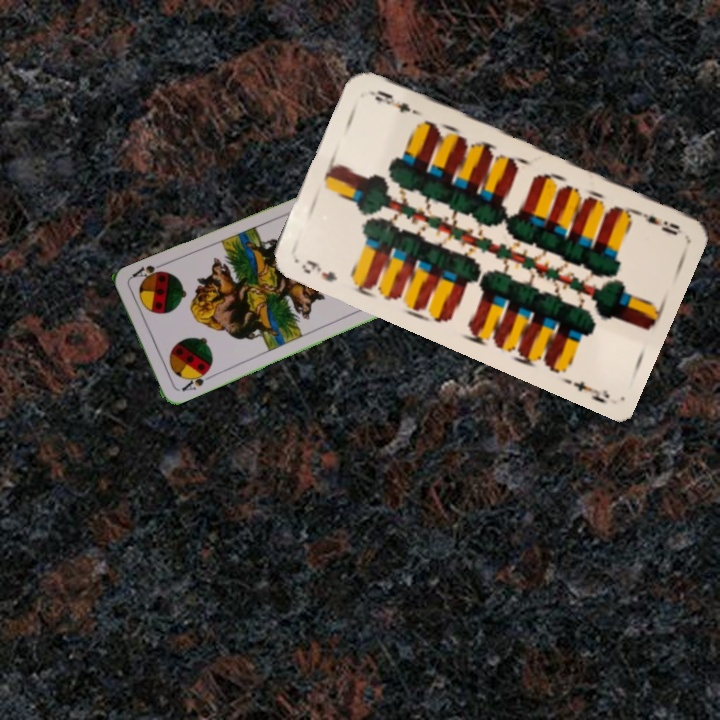E9: (630, 205, 685, 238), (297, 255, 340, 285)
SA: (177, 366, 213, 394)
